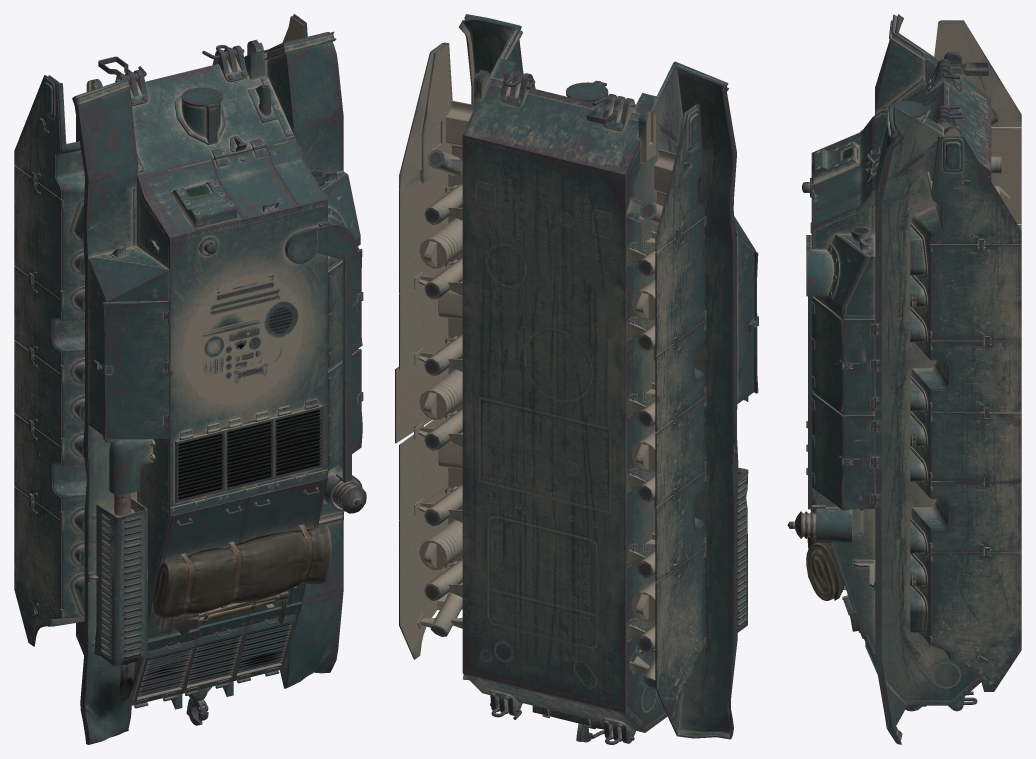
The model's file is Hull.glb.
3 views of the same model, side by side, from view 1: azimuth 30°, elevation 25°; view 2: azimuth 150°, elevation 25°; view 3: azimuth 270°, elevation 25° (orthographic). The views are drawn at different scales.
Visible parts, largest first — view 1: set_0_group_0; view 2: set_0_group_0; view 3: set_0_group_0.
Part boxes in pixels (left/top/right/bottom): set_0_group_0: left=14, top=14, right=366, bottom=744; set_0_group_0: left=395, top=14, right=758, bottom=744; set_0_group_0: left=787, top=14, right=1021, bottom=744.
Bounding box in the file's own units: 2.29 × 5.58 × 1.84.
Materials: 1 (1 with a texture image).
